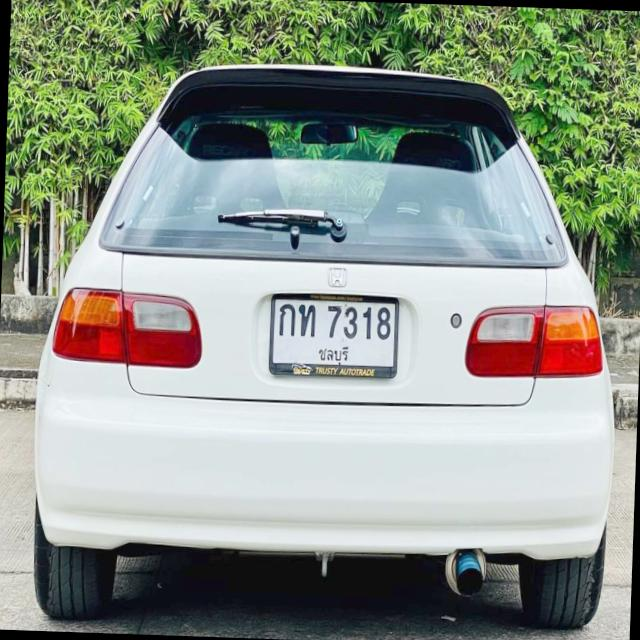license_plate: (267, 288, 400, 382)
